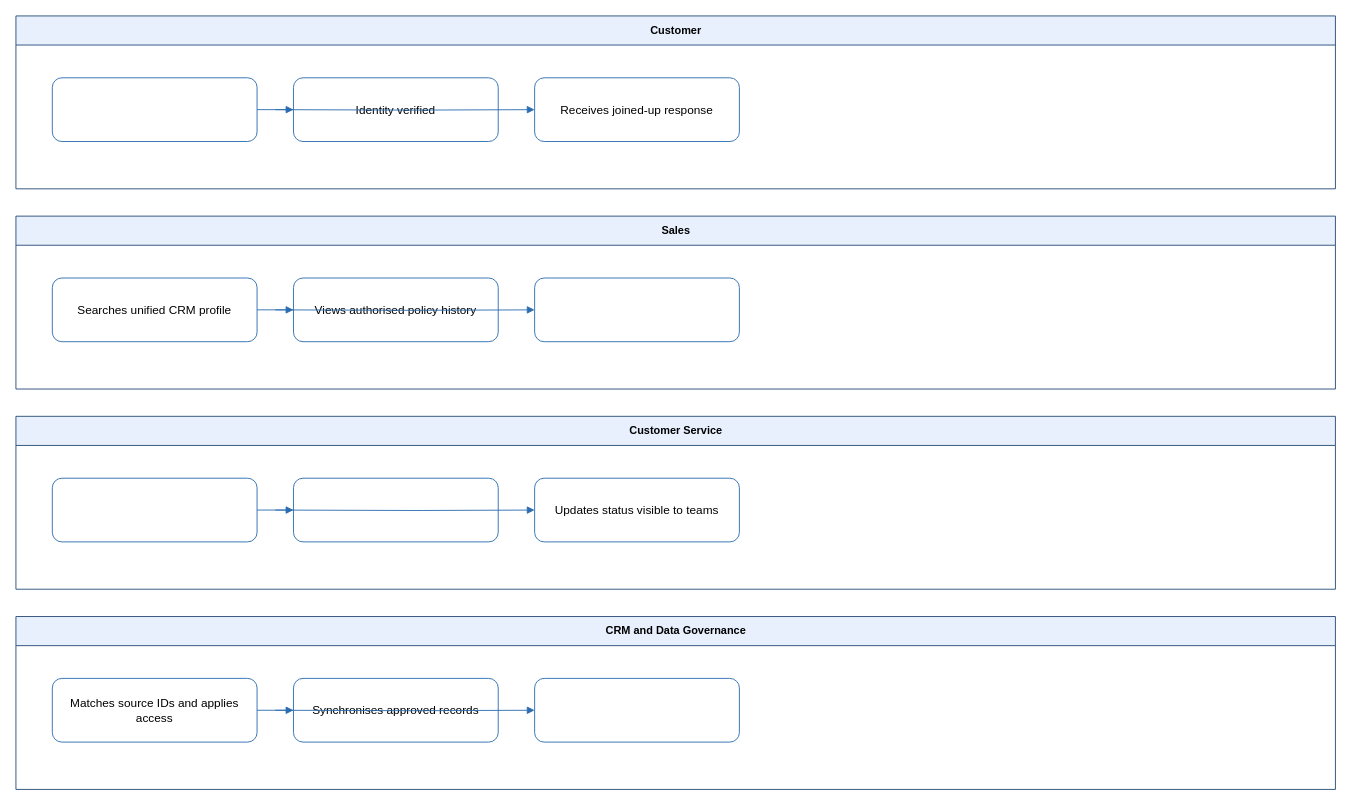
The diagram is 1351 pixels wide and 805 high, and some of its shapes have lost their labels. The shapes that lost their labels are listed below. From the top down, each one's box as (x1, y1, x2, y2) in pixels, then its label:
(51, 77, 257, 142): Contacts Sales or Service
(534, 277, 739, 342): Creates referral and follow-up task
(51, 477, 257, 542): Opens shared interaction timeline
(293, 477, 498, 542): Logs and assigns service case
(534, 677, 739, 742): Audits actions and refreshes KPIs
